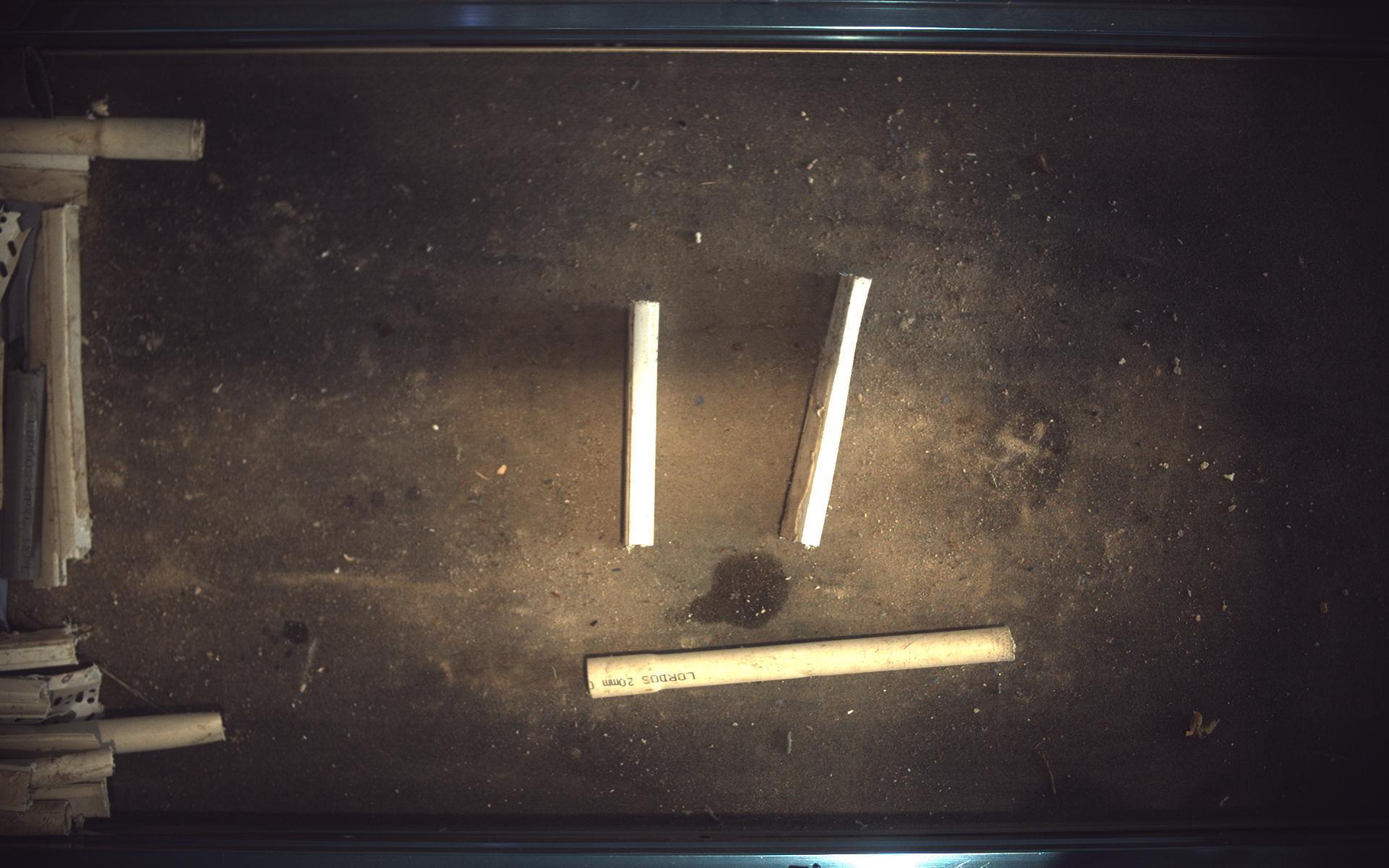pipes: (586, 627, 1018, 699)
plastic: (781, 273, 873, 548), (625, 300, 660, 549)
